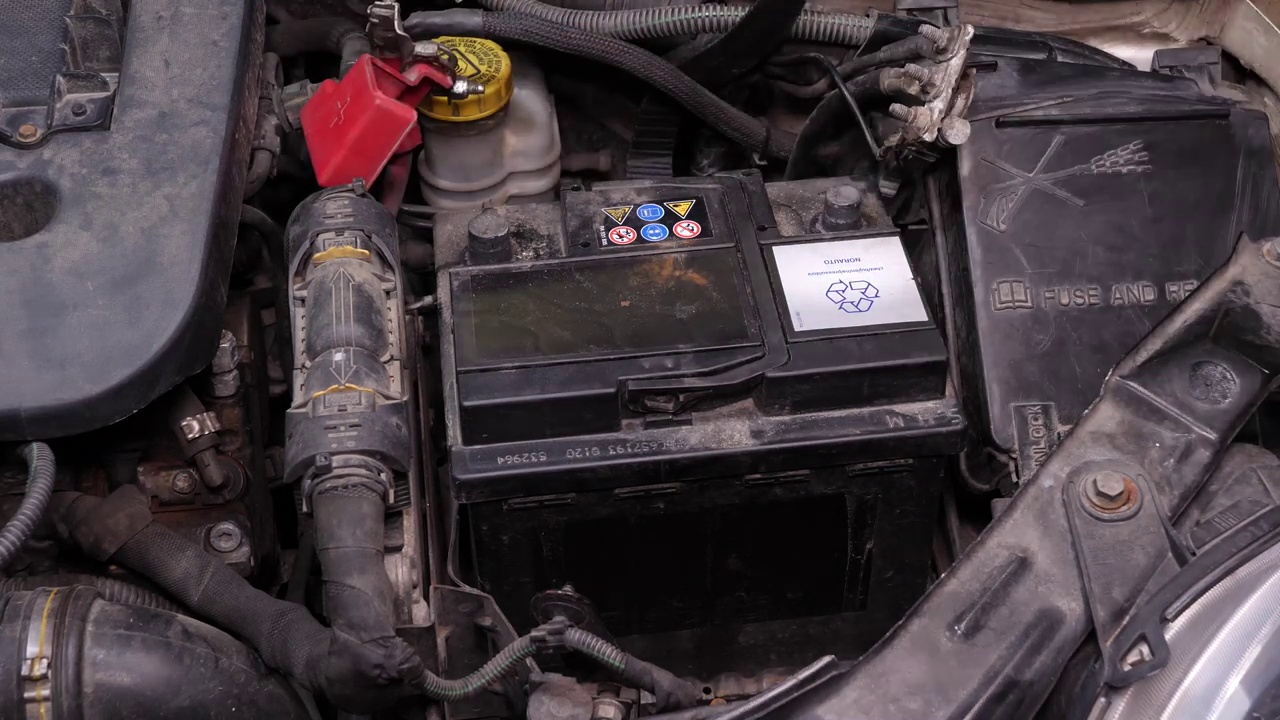battery: (431, 166, 948, 377)
neg_disconnected: (792, 173, 888, 238)
pos_disconnected: (291, 57, 574, 273)
